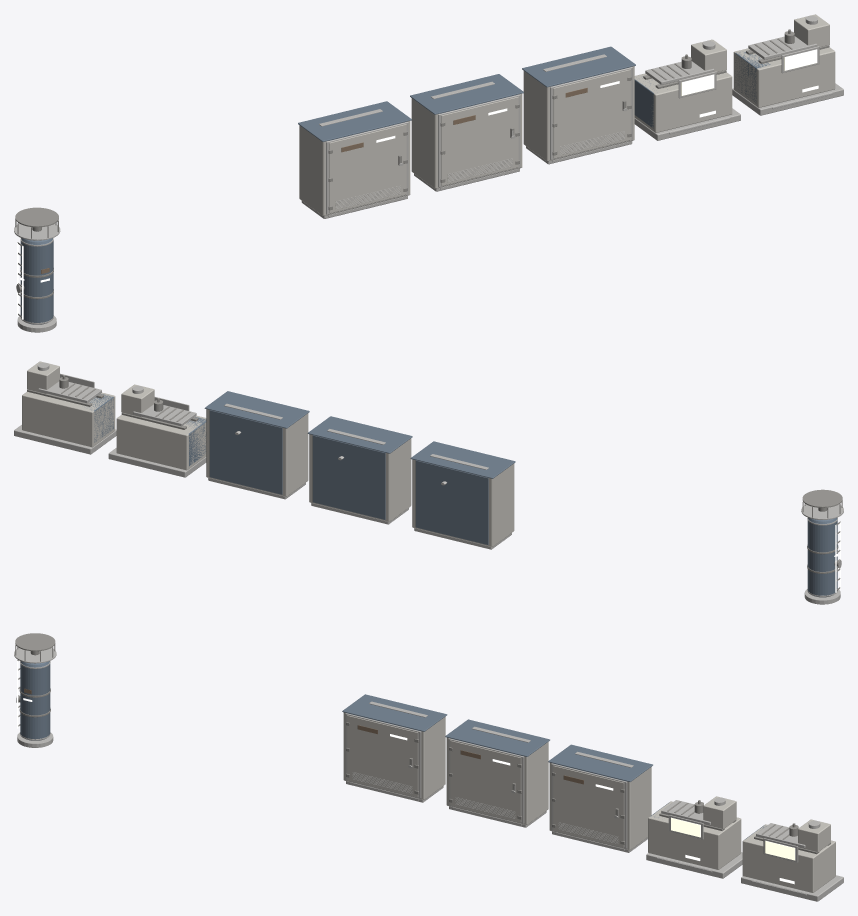
Rendered from xuanshu_interior_C07.glb.
3 renders of one model, top to bottom at view 1: azimuth 30°, elevation 25°; view 2: azimuth 150°, elevation 25°; view 3: azimuth 330°, elevation 25°, orthographic. The views are drawn at different scales.
Parts seen in each view (by area): view 1: UNIT-ATM-001_LOD10, UNIT-ATM-001_LOD12, UNIT-ATM-001_LOD11, UNIT-ATM-001_LOD14, UNIT-ATM-001_LOD13, UNIT-ATM-001_LOD15; view 2: UNIT-ATM-001_LOD11, UNIT-ATM-001_LOD10, UNIT-ATM-001_LOD12, UNIT-ATM-001_LOD14, UNIT-ATM-001_LOD13, UNIT-ATM-001_LOD15; view 3: UNIT-ATM-001_LOD10, UNIT-ATM-001_LOD11, UNIT-ATM-001_LOD12, UNIT-ATM-001_LOD14, UNIT-ATM-001_LOD13, UNIT-ATM-001_LOD15.
Boxes of the visible parts, <box> form: UNIT-ATM-001_LOD10: <box>298,101,411,218</box>; UNIT-ATM-001_LOD12: <box>522,46,635,164</box>; UNIT-ATM-001_LOD11: <box>410,74,523,191</box>; UNIT-ATM-001_LOD14: <box>732,14,843,115</box>; UNIT-ATM-001_LOD13: <box>634,39,740,140</box>; UNIT-ATM-001_LOD15: <box>14,207,60,332</box>; UNIT-ATM-001_LOD11: <box>307,416,412,524</box>; UNIT-ATM-001_LOD10: <box>410,441,515,549</box>; UNIT-ATM-001_LOD12: <box>204,391,309,499</box>; UNIT-ATM-001_LOD14: <box>14,361,116,454</box>; UNIT-ATM-001_LOD13: <box>108,384,206,477</box>; UNIT-ATM-001_LOD15: <box>801,489,843,604</box>; UNIT-ATM-001_LOD10: <box>342,694,447,802</box>; UNIT-ATM-001_LOD11: <box>445,719,549,827</box>; UNIT-ATM-001_LOD12: <box>548,744,652,852</box>; UNIT-ATM-001_LOD14: <box>741,819,843,901</box>; UNIT-ATM-001_LOD13: <box>646,796,742,878</box>; UNIT-ATM-001_LOD15: <box>14,633,56,747</box>.
Size of what is drawn, in the model's own units: 18.57 by 2.25 by 2.39.
